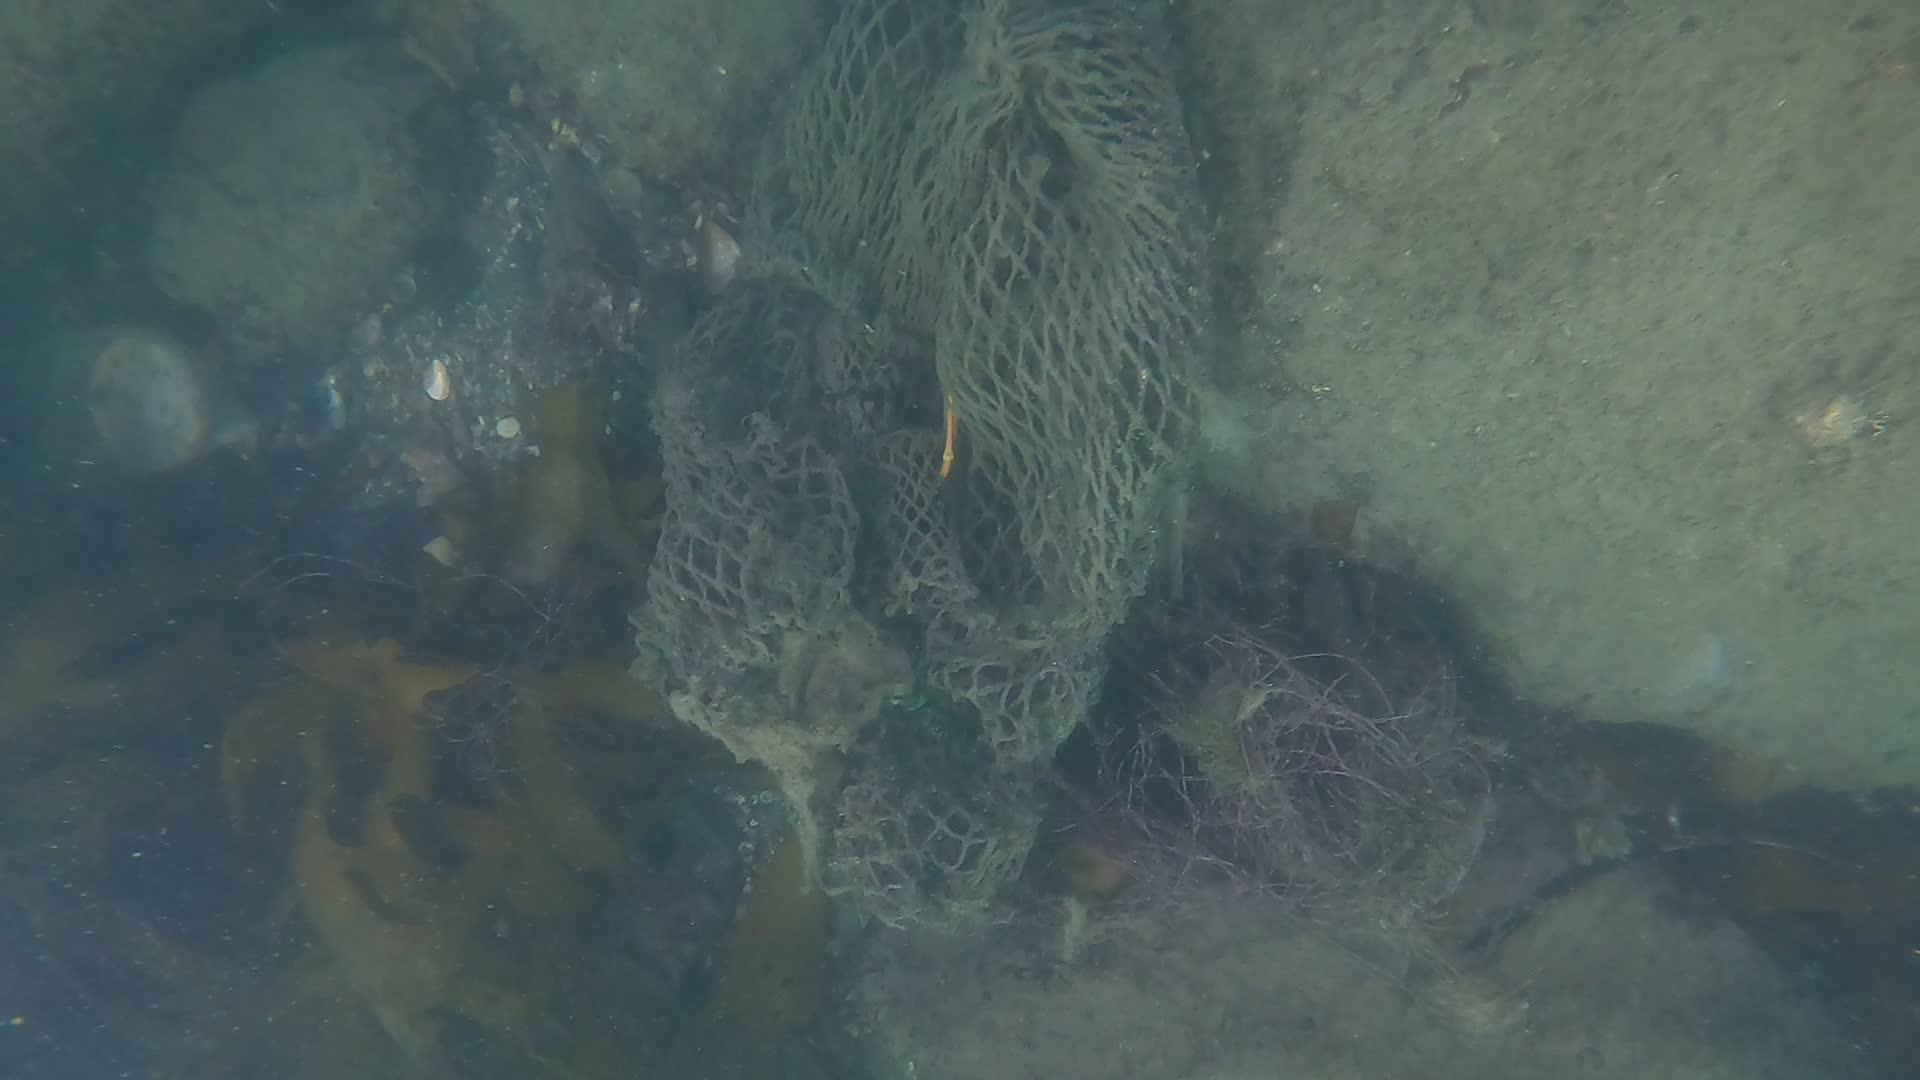fish net: (645, 0, 1209, 927)
